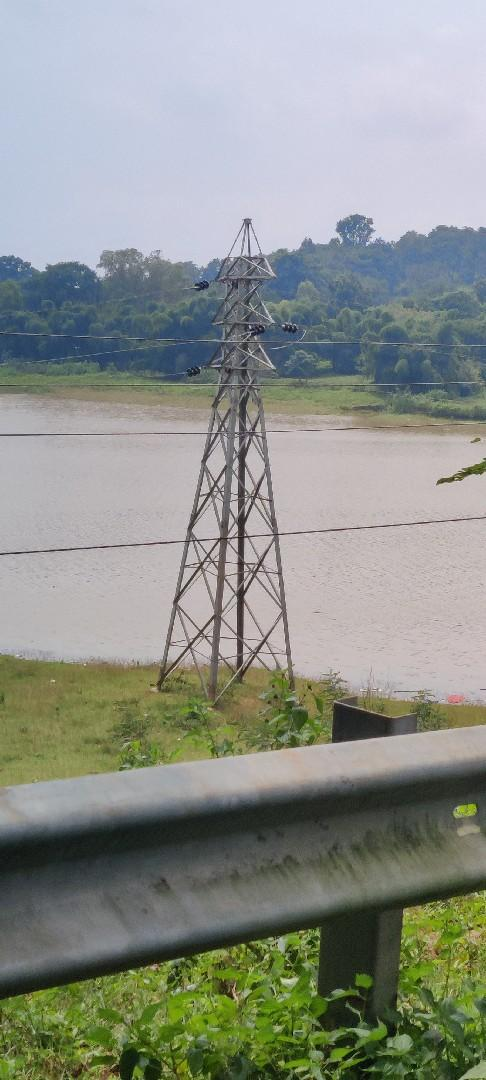GSM Antenna: (151, 216, 298, 673)
